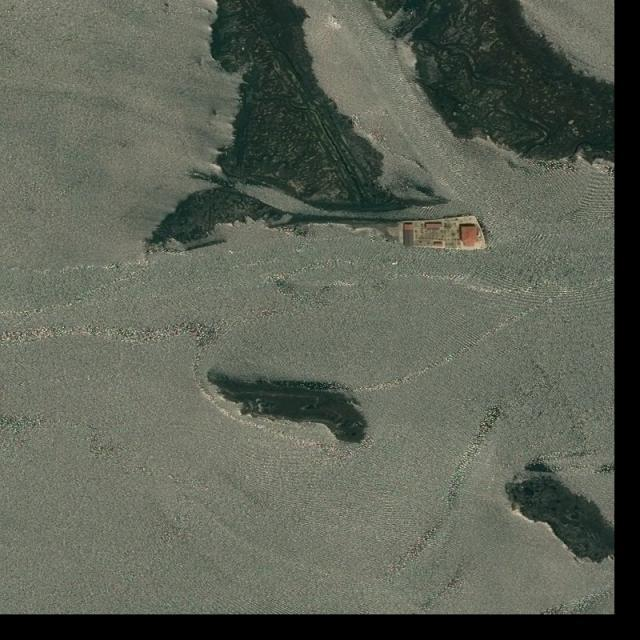ship: (228, 250, 234, 255)
